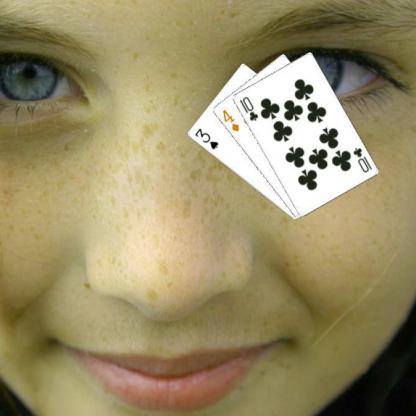10C: (236, 94, 260, 122), (350, 145, 373, 174)
3S: (192, 125, 220, 151)
4D: (220, 106, 240, 132)
